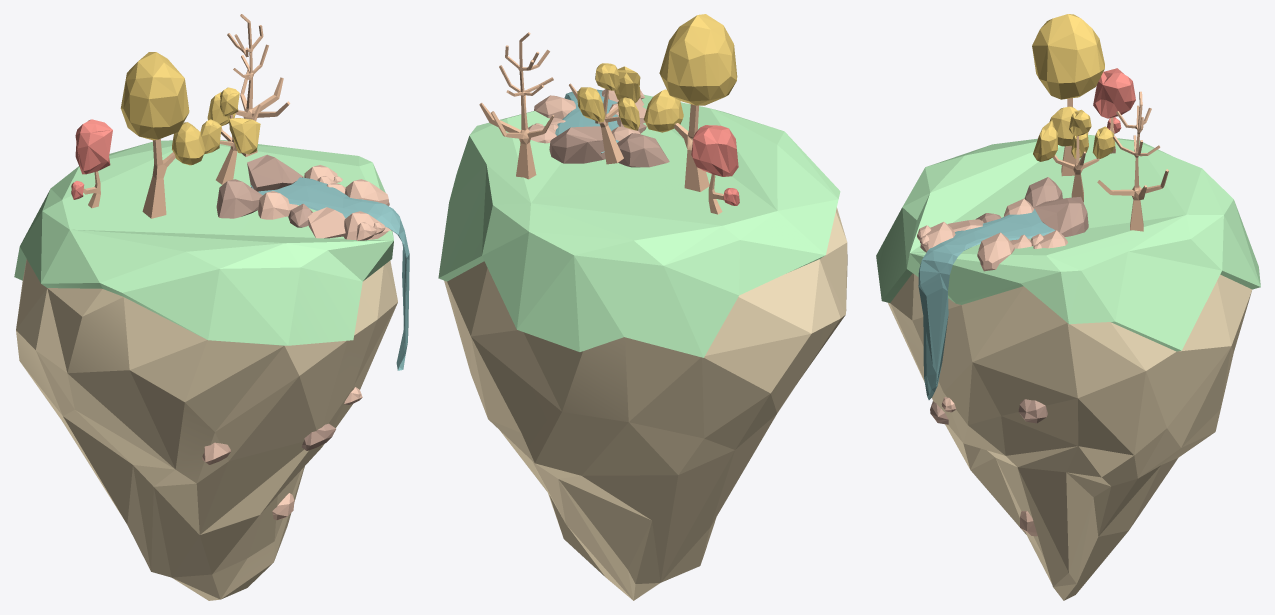
Rendered from island.fbx.
3 views of the same model, side by side, from view 1: azimuth 30°, elevation 25°; view 2: azimuth 150°, elevation 25°; view 3: azimuth 270°, elevation 25° (orthographic). The views are drawn at different scales.
Visible parts, largest first — view 1: Base, Top, Cube.001, Water, Tree 2.002, Cube.003, Rock.001, Rock, Tree, Cube.002, Rock.009, Cube.007 (+6 smaller); view 2: Base, Top, Cube.001, Tree 2.002, Cube.003, Rock.001, Rock, Cube.002, Tree, Tree 2.001, Water, Cube.008 (+4 smaller); view 3: Base, Top, Water, Cube.001, Tree 2.002, Cube.003, Rock.001, Rock.008, Rock, Cube.007, Tree 2.001, Cube.002 (+3 smaller).
Boxes of the visible parts, <box> form: Base: <box>16,259,397,600</box>; Top: <box>14,140,393,345</box>; Cube.001: <box>120,52,189,140</box>; Water: <box>251,177,409,370</box>; Tree 2.002: <box>227,14,290,156</box>; Cube.003: <box>75,119,112,174</box>; Rock.001: <box>247,154,303,191</box>; Rock: <box>216,179,262,218</box>; Tree: <box>142,139,175,218</box>; Cube.002: <box>172,122,205,165</box>; Rock.009: <box>308,207,345,238</box>; Cube.007: <box>229,118,260,154</box>; Base: <box>444,207,847,600</box>; Top: <box>438,94,840,357</box>; Cube.001: <box>659,14,737,105</box>; Tree 2.002: <box>479,32,554,179</box>; Cube.003: <box>691,125,738,176</box>; Rock.001: <box>549,126,615,163</box>; Rock: <box>617,133,669,167</box>; Cube.002: <box>643,89,683,132</box>; Tree: <box>673,104,709,191</box>; Tree 2.001: <box>569,83,623,164</box>; Water: <box>555,89,618,153</box>; Cube.008: <box>577,87,605,122</box>; Base: <box>888,273,1251,600</box>; Top: <box>876,134,1260,351</box>; Water: <box>918,209,1054,399</box>; Cube.001: <box>1032,14,1104,99</box>; Tree 2.002: <box>1097,91,1168,231</box>; Cube.003: <box>1093,68,1135,118</box>; Rock.001: <box>1034,196,1088,236</box>; Rock.008: <box>977,232,1014,271</box>; Rock: <box>1024,177,1062,208</box>; Cube.007: <box>1033,120,1058,161</box>; Tree 2.001: <box>1052,136,1099,202</box>; Cube.002: <box>1049,106,1088,146</box>.
Bounding box in the file's own units: 117 × 177 × 111.
